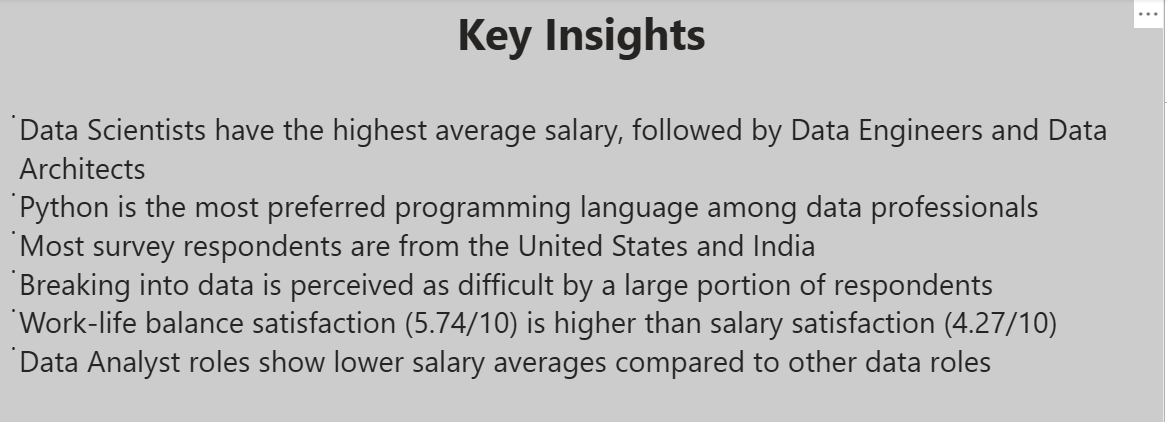

Layout of this report page (visuals, bound fields, positions):
{"tool":"powerbi","page":{"name":"Key Insights","canvas":[1280,720],"ordinal":1},"visuals":[{"type":"textbox","box":[0,0,1280.3,720.4],"z":0}]}

Visuals, with their boxes on the page's 1280x720 design canvas (x1, y1, x2, y2). These are canvas units, not pixel positions in the 1167x422 screenshot, which may show the page scaled, cropped or inside an application window:
textbox: l=0, t=0, r=1280, b=720
